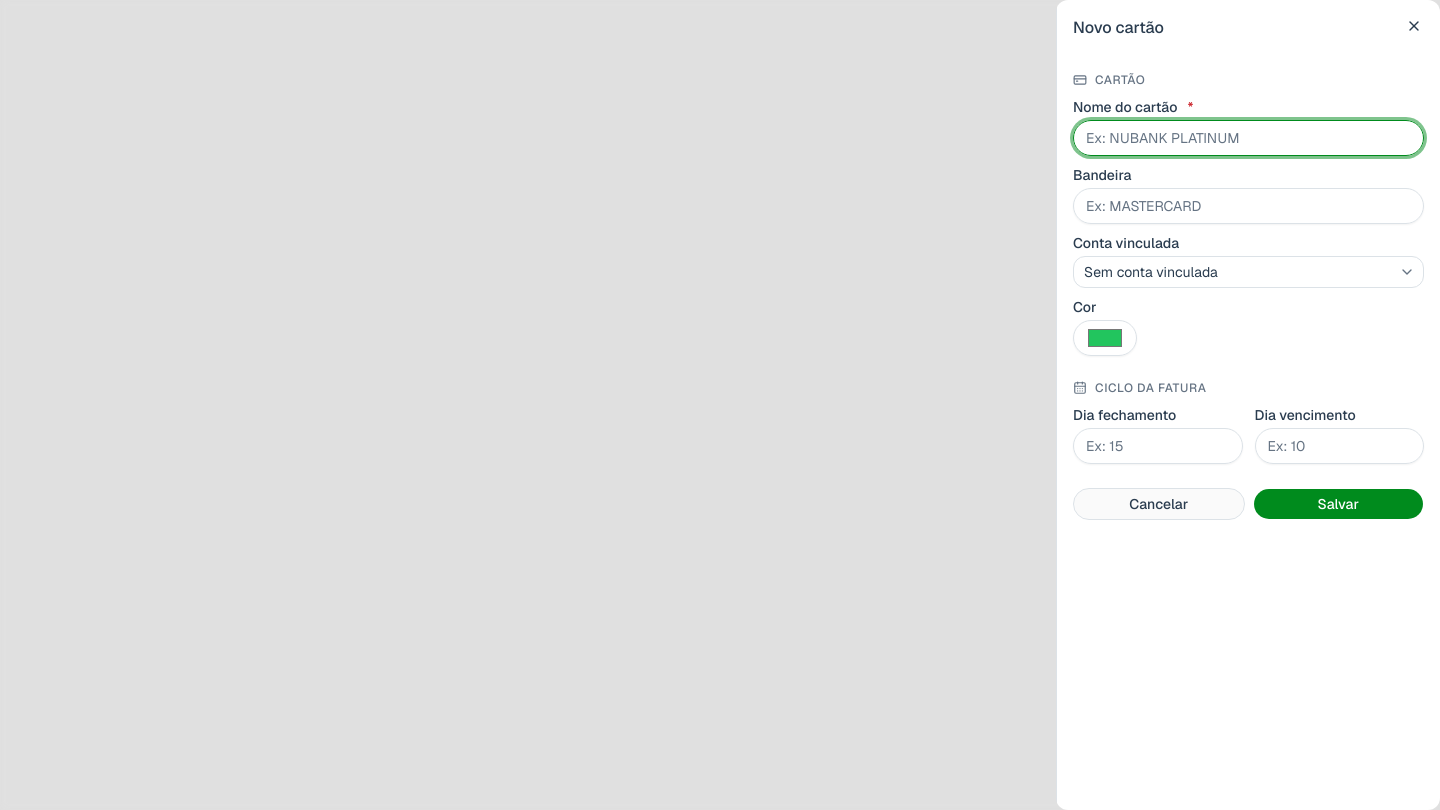
Test: CardForm › mostra erro do schema ao salvar sem nome
Click the button "Salvar".
click(1338, 504)  # box [1252,488,1424,520]
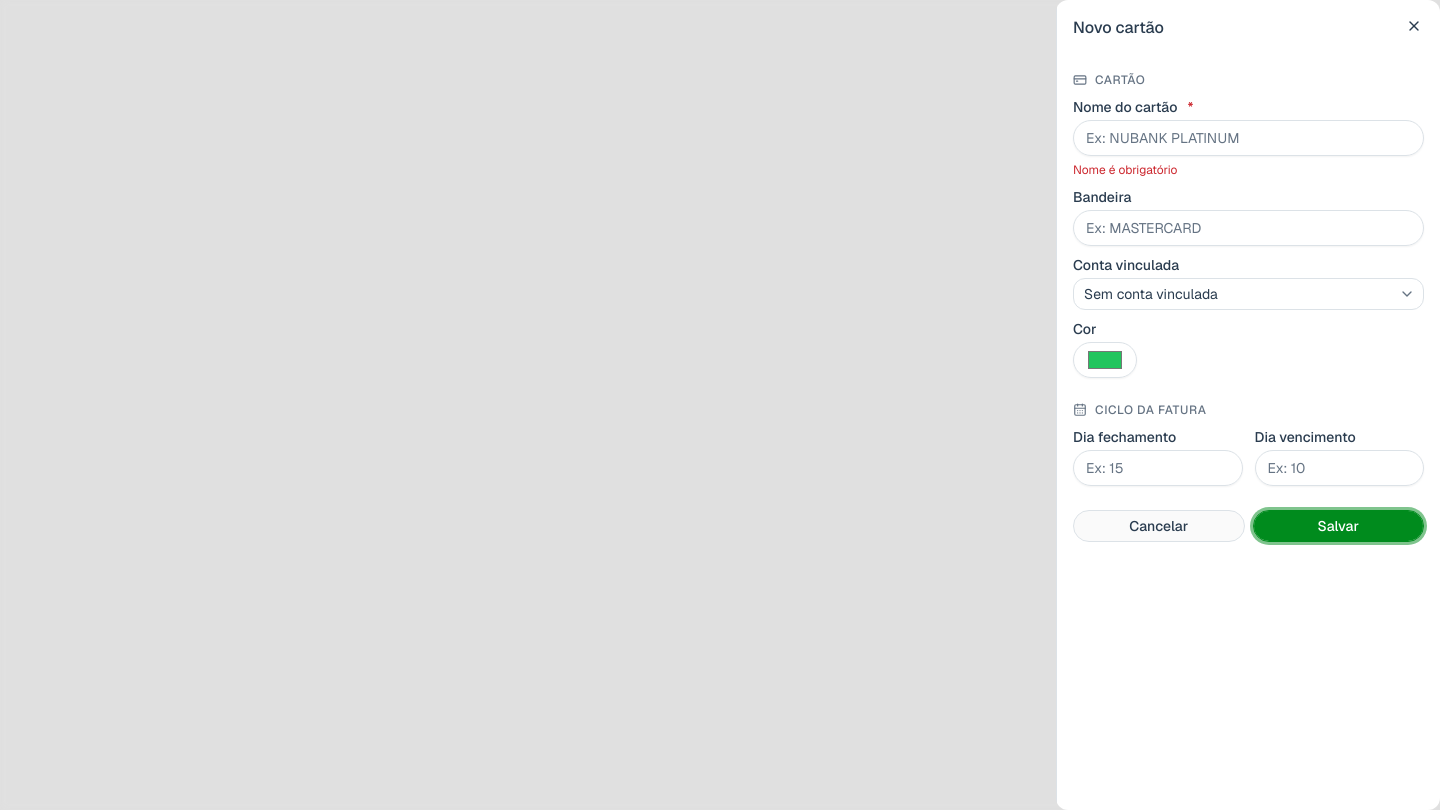
Now the text "Nome é obrigatório" is shown, box [1073,162,1178,178]
